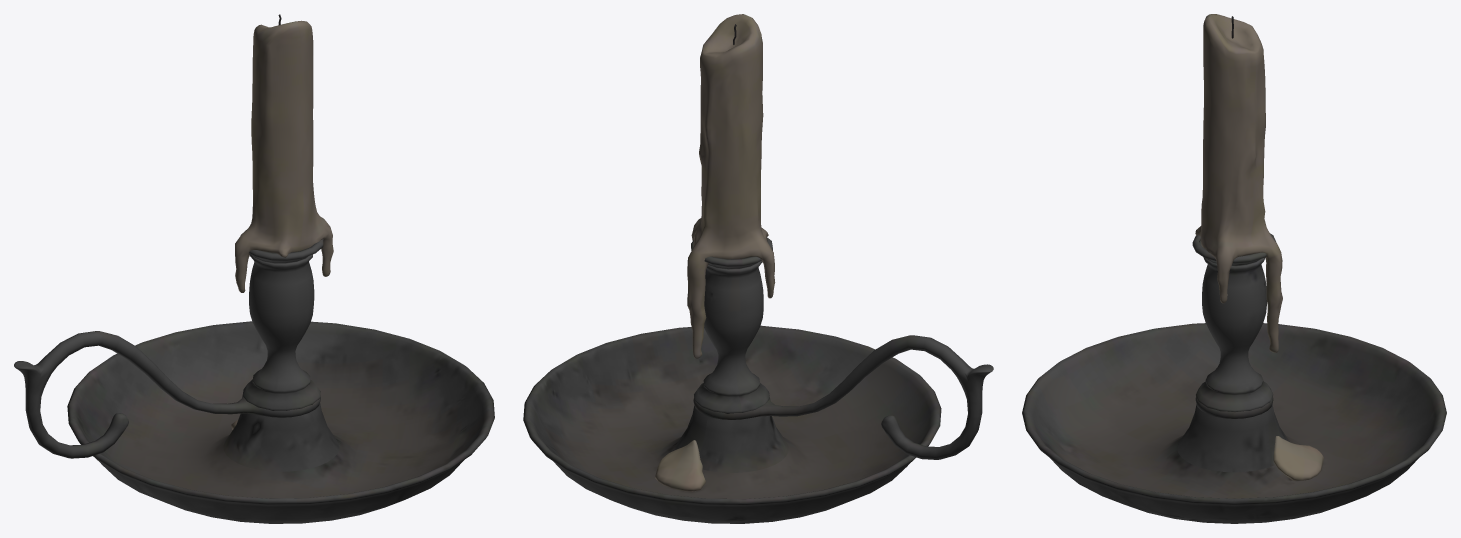
The model's file is s_vela.glb.
3 renders of one model, left to right at view 1: azimuth 30°, elevation 25°; view 2: azimuth 150°, elevation 25°; view 3: azimuth 270°, elevation 25°, orthographic. The views are drawn at different scales.
Visible parts, largest first — view 1: Object_2; view 2: Object_2; view 3: Object_2.
Part boxes in pixels (x1,y1,x2,y2): Object_2: (14, 14, 494, 523); Object_2: (523, 14, 993, 523); Object_2: (1022, 14, 1446, 523).
Bounding box in the file's own units: 0.2297 × 0.22 × 0.1888.
1 material, 1 textured.
